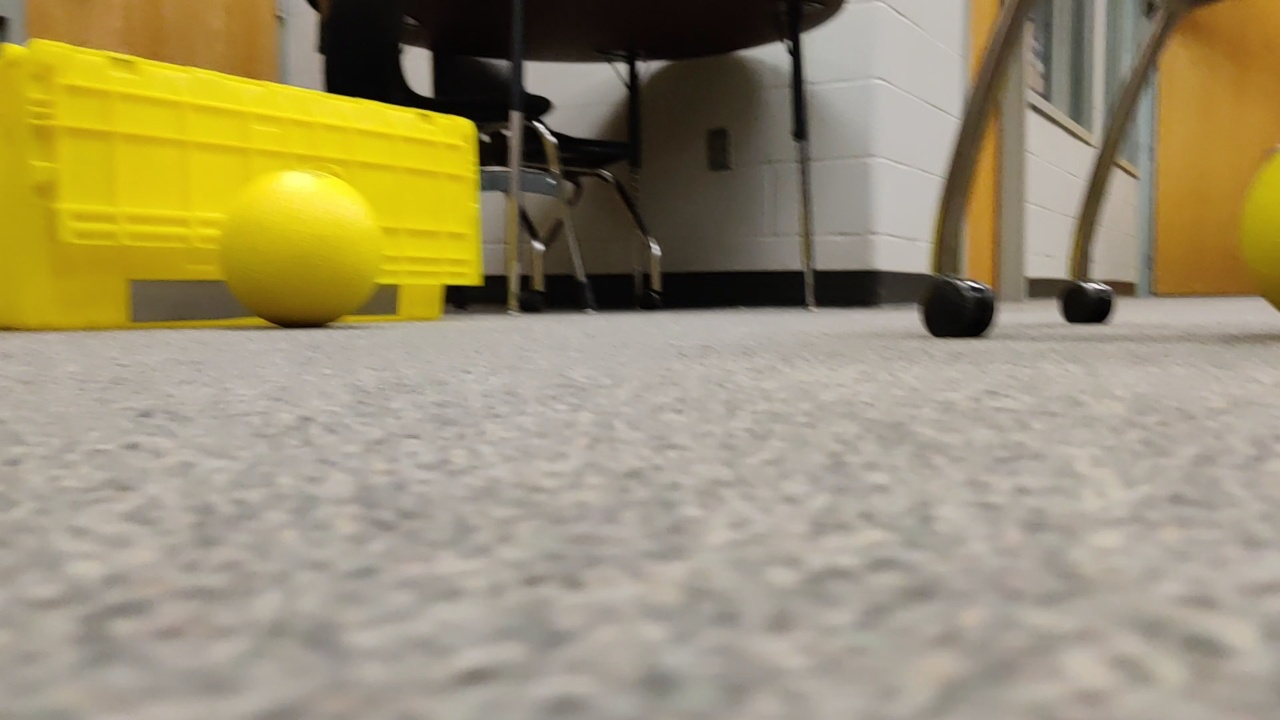Ball: (215, 169, 382, 326), (1239, 157, 1280, 318)
